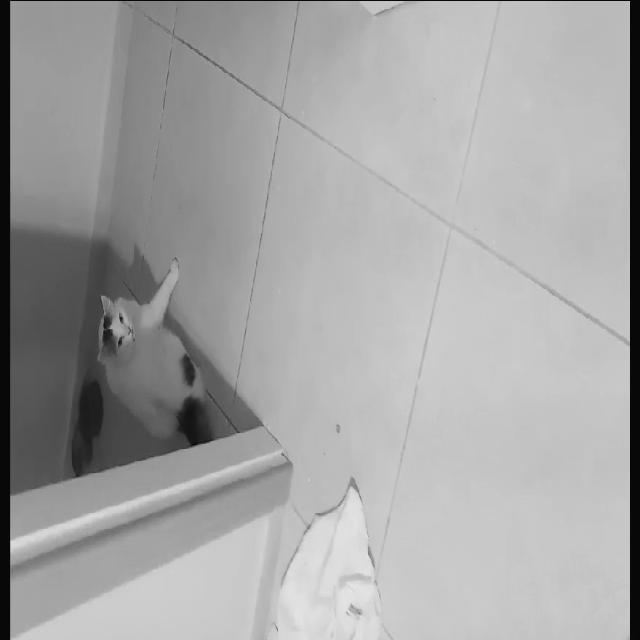Simba: (86, 153, 250, 434)
